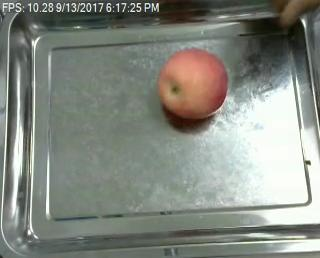apple: (156, 48, 229, 118)
